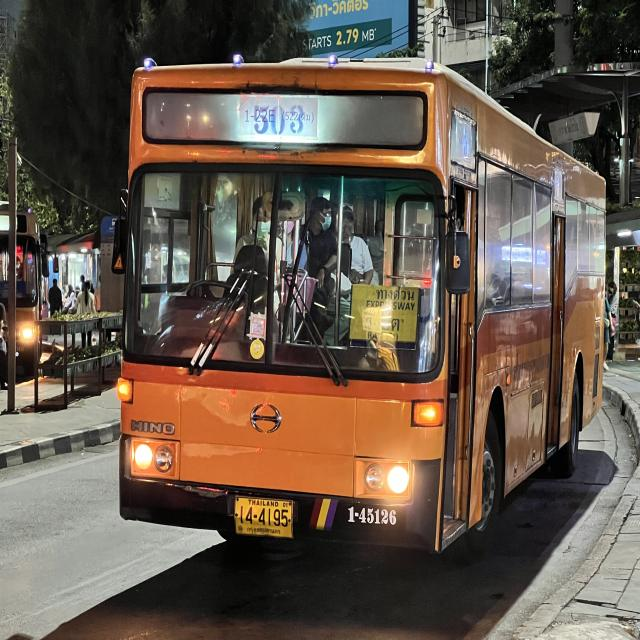BMTA-bus: (116, 61, 608, 557)
Bus Line Number: (235, 88, 322, 146)
Bus Side Number: (341, 497, 398, 538)
Destination Sign: (348, 282, 419, 345)
